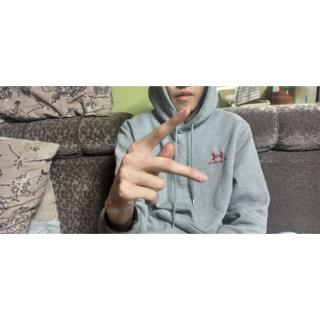DHAA: (107, 106, 213, 220)
